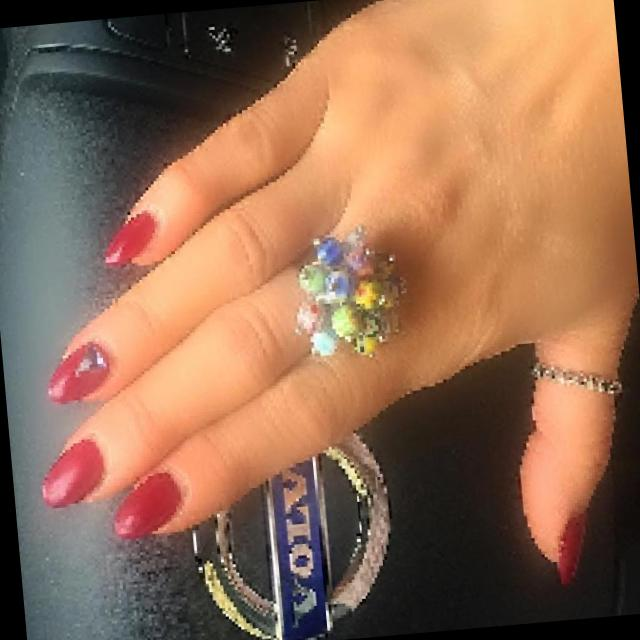Nail: (113, 472, 181, 538), (41, 439, 105, 507), (46, 341, 108, 403), (105, 210, 155, 260), (560, 514, 584, 583)
